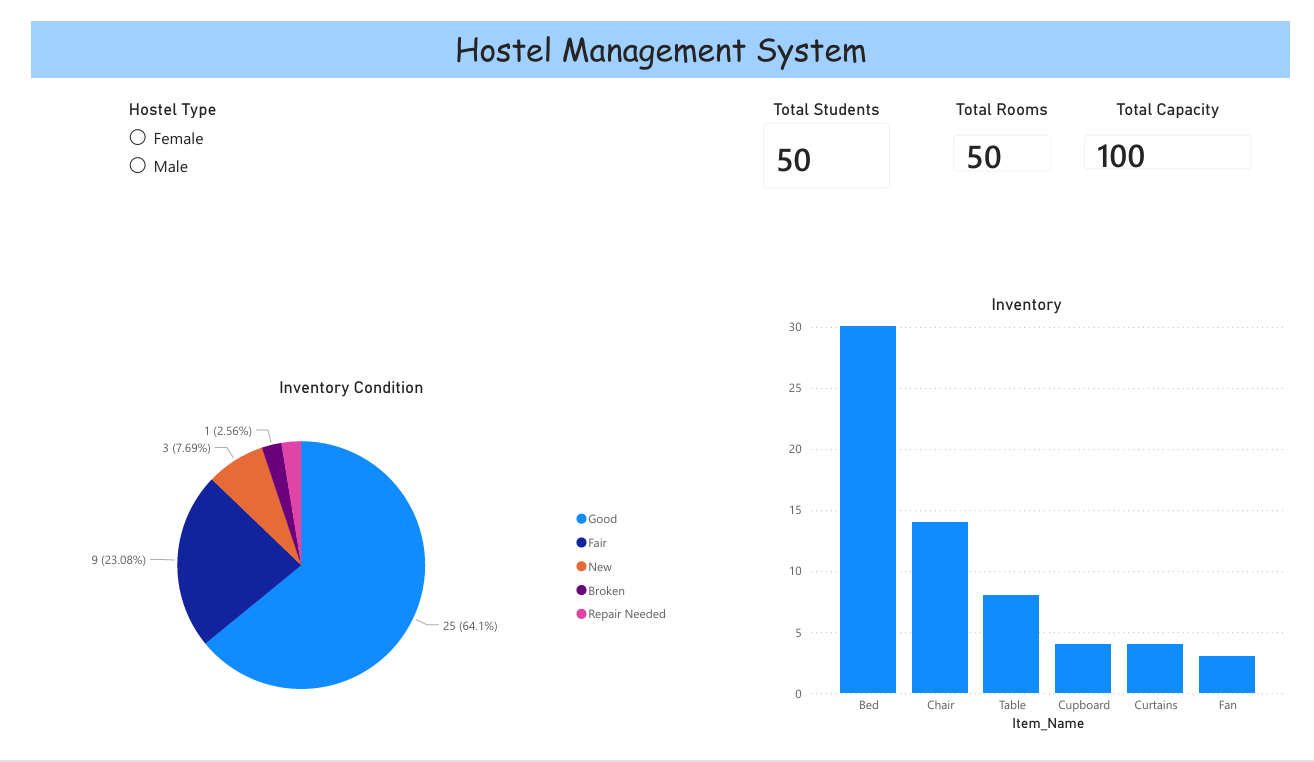

This screenshot's page, from the dashboard's own definition file:
{"tool":"powerbi","page":{"name":"Page 1","canvas":[1280,720],"ordinal":0},"visuals":[{"type":"textbox","box":[9.5,0,1270.9,57.3],"z":0},{"type":"cardVisual","title":"Total Students","fields":{"Data":["CountNonNull(student.Student_ID)"]},"box":[747.6,77.9,135.2,90.7],"z":1000},{"type":"listSlicer","fields":{"Values":["hostel.Gender_Type"]},"box":[103.4,77.9,152.7,87.5],"z":2000},{"type":"cardVisual","title":"Total Rooms","fields":{"Data":["CountNonNull(room.Room_ID)"]},"box":[922.6,77.9,132,90.7],"z":3000},{"type":"pieChart","title":"Inventory Condition","fields":{"Category":["inventory.Item_Condition"],"Y":["CountNonNull(inventory.Item_ID)"]},"box":[0,359.5,664.9,359.5],"z":4000},{"type":"clusteredColumnChart","title":"Inventory","fields":{"Category":["inventory.Item_Name"],"Y":["Sum(inventory.Quantity)"]},"box":[747.6,275.2,532.9,445.4],"z":5000},{"type":"cardVisual","title":"Total Capacity","fields":{"Data":["Sum(room.Capacity)"]},"box":[1054.6,77.9,203.6,89.1],"z":6000}]}

Visuals, with their boxes on the page's 1280x720 design canvas (x1, y1, x2, y2). These are canvas units, not pixel positions in the 1314x762 screenshot, which may show the page scaled, cropped or inside an application window:
textbox: bbox(10, 0, 1280, 57)
"Total Students" cardVisual: bbox(748, 78, 883, 169)
listSlicer - hostel.Gender_Type: bbox(103, 78, 256, 165)
"Total Rooms" cardVisual: bbox(923, 78, 1055, 169)
"Inventory Condition" pieChart: bbox(0, 360, 665, 719)
"Inventory" clusteredColumnChart: bbox(748, 275, 1280, 721)
"Total Capacity" cardVisual: bbox(1055, 78, 1258, 167)
